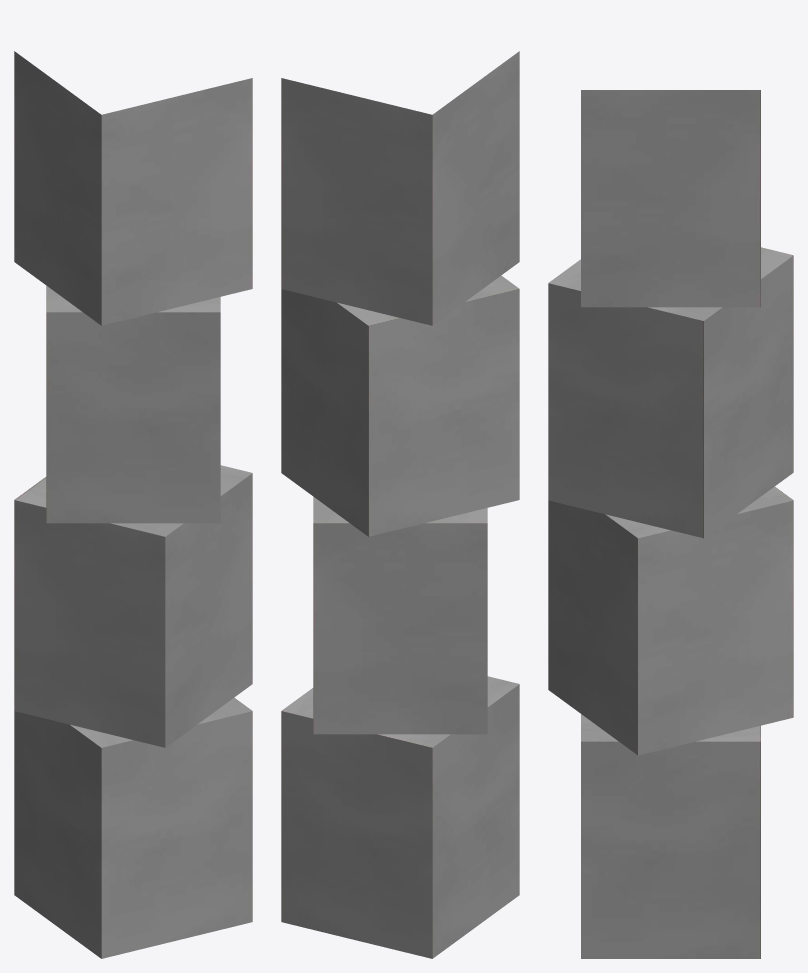
File: Post_Weird.glb
3 views of the same model, side by side, from view 1: azimuth 30°, elevation 25°; view 2: azimuth 150°, elevation 25°; view 3: azimuth 270°, elevation 25° (orthographic). The views are drawn at different scales.
Parts seen in each view (by area): view 1: Post_Weird; view 2: Post_Weird; view 3: Post_Weird.
Boxes of the visible parts, x1,y1,x2,y2 form: Post_Weird: (14,51,252,958); Post_Weird: (281,51,519,958); Post_Weird: (548,90,793,958).
Bounding box in the file's own units: 1.54 × 6 × 1.54.
1 material, 1 textured.
